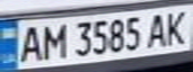3: (69, 18, 93, 57)
5: (124, 14, 148, 52), (90, 17, 112, 55)
8: (106, 16, 127, 54)
A: (15, 23, 45, 62), (145, 10, 172, 48)
K: (160, 7, 193, 46)
M: (39, 20, 69, 60)
